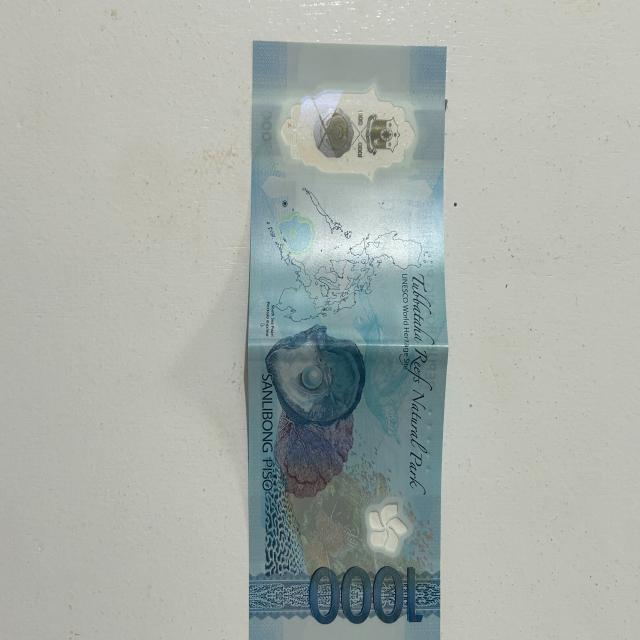clear_window: (270, 71, 428, 189)
sampaguita: (353, 491, 411, 555)
security_thread: (247, 332, 447, 370)
value_watermark: (259, 104, 283, 156)
